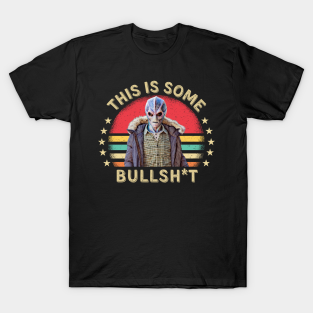design: (97, 78, 216, 185)
